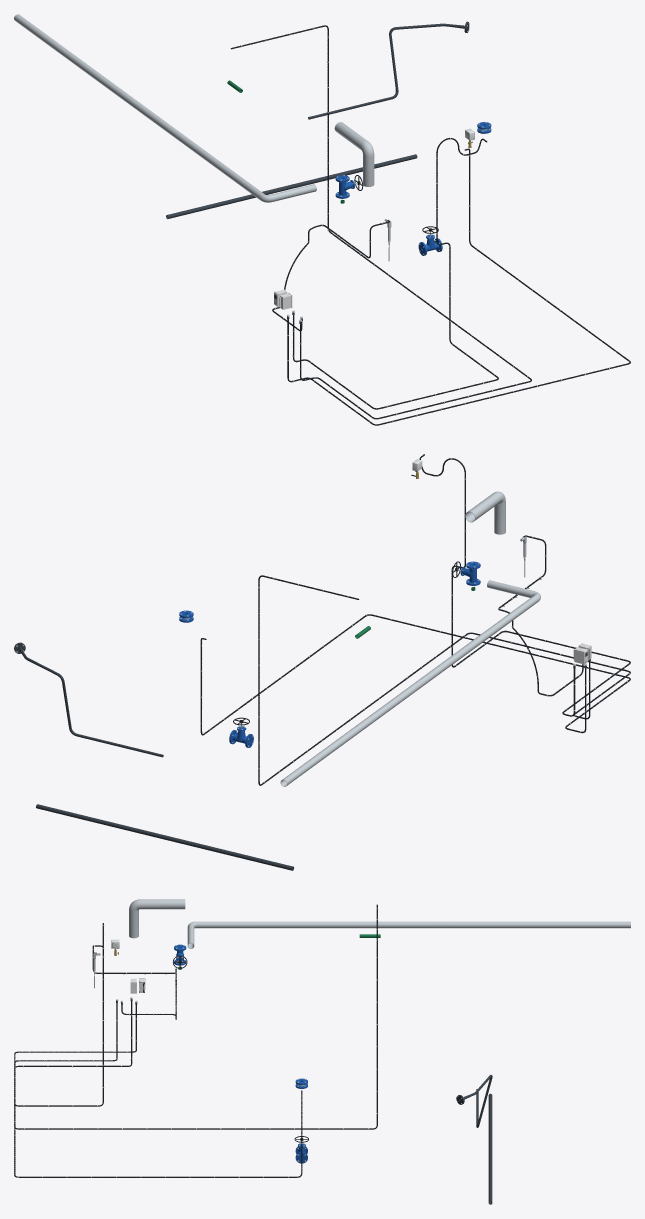
File: s4000-3-BLdk_3fj.glb
3 renders of one model, top to bottom at view 1: azimuth 30°, elevation 25°; view 2: azimuth 150°, elevation 25°; view 3: azimuth 270°, elevation 25°, orthographic. The views are drawn at different scales.
Visible parts, largest first — view 1: safety_vent_1 / steel, mod_direct_drive_cable / black, wiring_pump_2 / black, wiring_pressure_switch_2 / black, bottom_discharge / dark, steam_rise / steel, tds_without_fv / dark; view 2: safety_vent_1 / steel, mod_direct_drive_cable / black, wiring_pump_2 / black, bottom_discharge / dark, wiring_pressure_switch_2 / black, steam_rise / steel, tds_without_fv / dark; view 3: safety_vent_1 / steel, mod_direct_drive_cable / black, wiring_pump_2 / black, wiring_pressure_switch_2 / black, steam_rise / steel, bottom_discharge / dark.
Part boxes in pixels (left/top/right/bottom): safety_vent_1 / steel: left=14, top=14, right=316, bottom=202; mod_direct_drive_cable / black: left=230, top=25, right=531, bottom=419; wiring_pump_2 / black: left=287, top=148, right=630, bottom=425; wiring_pressure_switch_2 / black: left=293, top=138, right=498, bottom=409; bottom_discharge / dark: left=166, top=154, right=417, bottom=218; steam_rise / steel: left=334, top=122, right=374, bottom=186; tds_without_fv / dark: left=308, top=21, right=469, bottom=119; safety_vent_1 / steel: left=280, top=580, right=540, bottom=786; mod_direct_drive_cable / black: left=258, top=575, right=630, bottom=785; wiring_pump_2 / black: left=200, top=614, right=630, bottom=735; bottom_discharge / dark: left=36, top=804, right=293, bottom=870; wiring_pressure_switch_2 / black: left=419, top=454, right=630, bottom=716; steam_rise / steel: left=465, top=491, right=505, bottom=534; tds_without_fv / dark: left=14, top=642, right=163, bottom=757; safety_vent_1 / steel: left=187, top=921, right=630, bottom=948; mod_direct_drive_cable / black: left=14, top=904, right=377, bottom=1129; wiring_pump_2 / black: left=14, top=1001, right=302, bottom=1177; wiring_pressure_switch_2 / black: left=14, top=923, right=136, bottom=1106; steam_rise / steel: left=129, top=899, right=185, bottom=938; bottom_discharge / dark: left=488, top=1093, right=492, bottom=1204.
Size of the model in its own units: 4.37 by 2.51 by 7.03.
